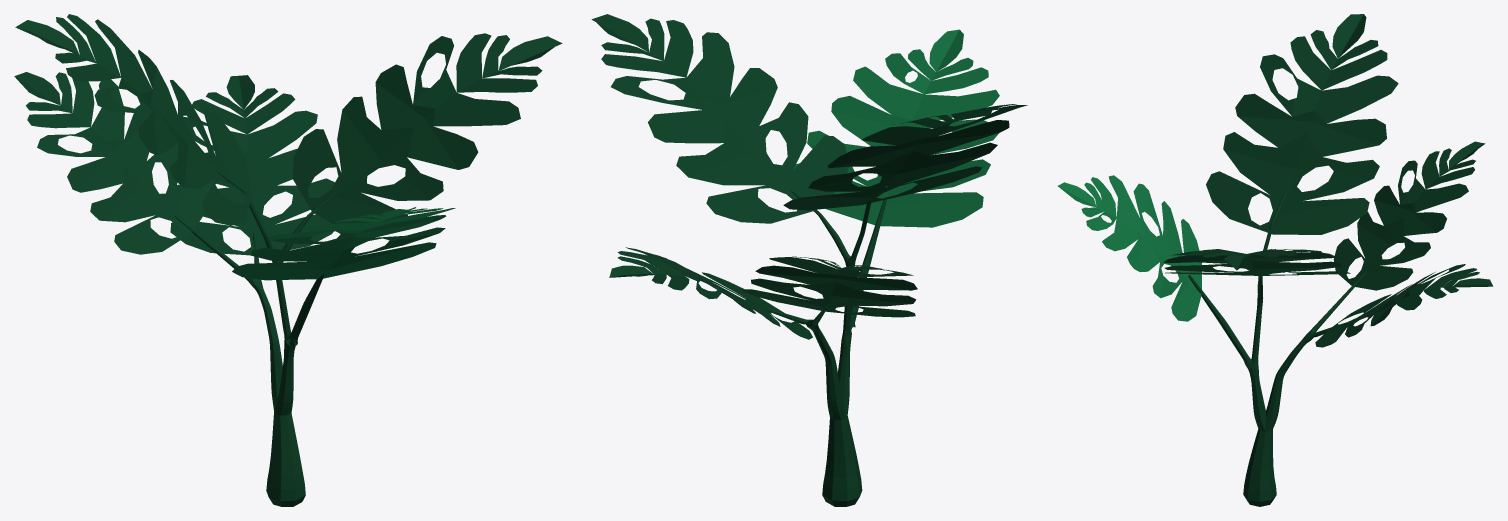
Rendered from brigesPlane_109.fbx.
The picture shows the model from 3 angles, left to right: view 1: azimuth 30°, elevation 25°; view 2: azimuth 150°, elevation 25°; view 3: azimuth 270°, elevation 25°; orthographic projection. The views are drawn at different scales.
Visible parts, largest first — view 1: Plane.109; view 2: Plane.109; view 3: Plane.109.
Part boxes in pixels (box(x1,y1,x2,y2)): Plane.109: box(14, 14, 562, 506); Plane.109: box(591, 14, 1027, 506); Plane.109: box(1058, 14, 1493, 506).
Bounding box in the file's own units: 389 × 383 × 371.
